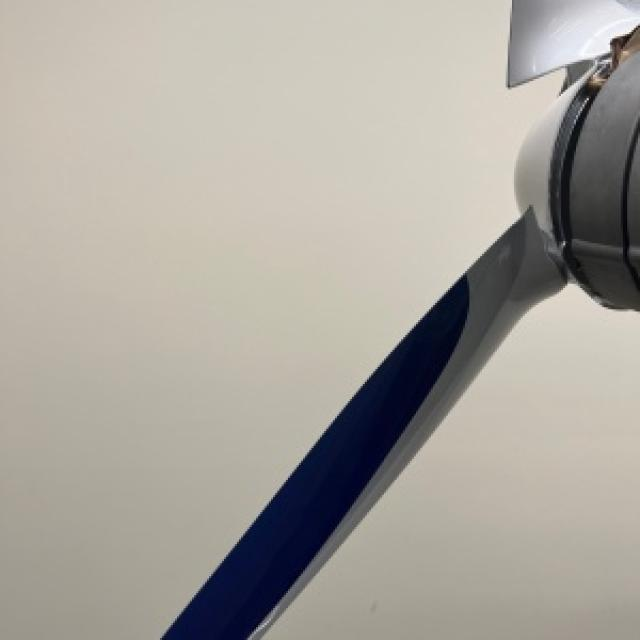healthy: (160, 0, 638, 638)
